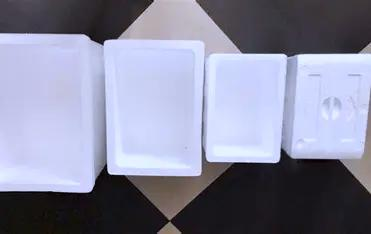ROAD_OBSTACLE: (0, 32, 106, 185), (104, 38, 204, 175), (282, 51, 371, 157), (204, 50, 287, 162)
